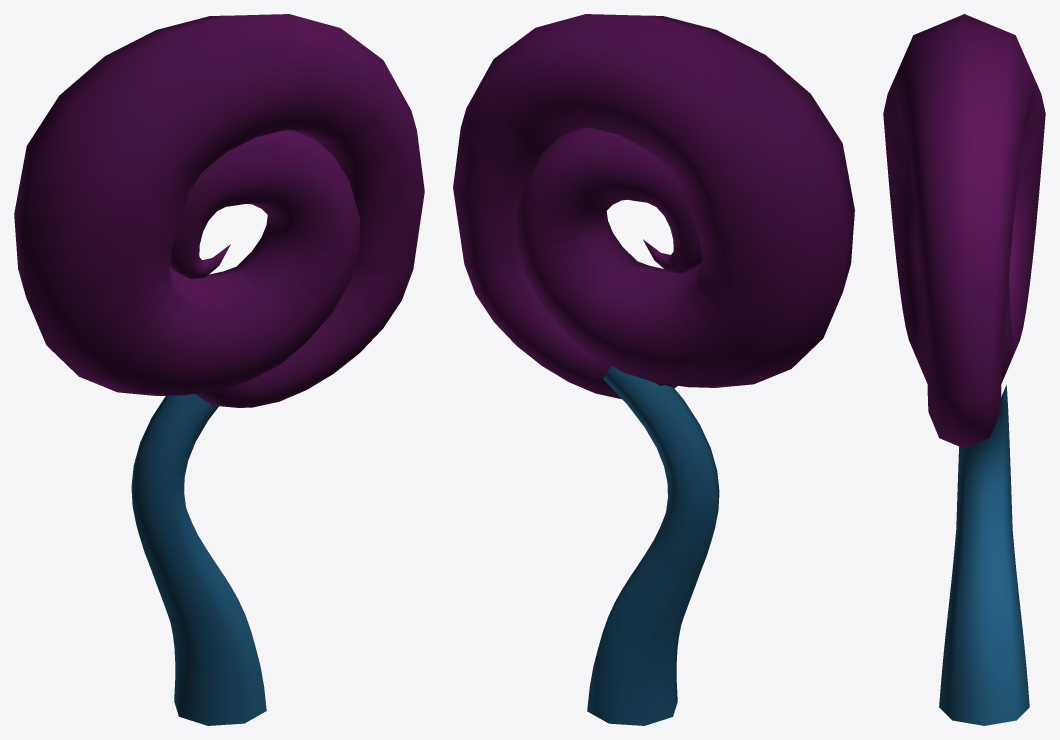
Rendered from Tree_Swirl_1.glb.
3 views of the same model, side by side, from view 1: azimuth 30°, elevation 25°; view 2: azimuth 150°, elevation 25°; view 3: azimuth 270°, elevation 25° (orthographic). The views are drawn at different scales.
Visible parts, largest first — view 1: Tree_Swirl_2; view 2: Tree_Swirl_2; view 3: Tree_Swirl_2.
Part boxes in pixels (box(x1,y1,x2,y2)): Tree_Swirl_2: box(14, 14, 424, 725); Tree_Swirl_2: box(453, 14, 854, 725); Tree_Swirl_2: box(883, 14, 1045, 725).
Bounding box in the file's own units: 3.07 × 5.15 × 1.15.
